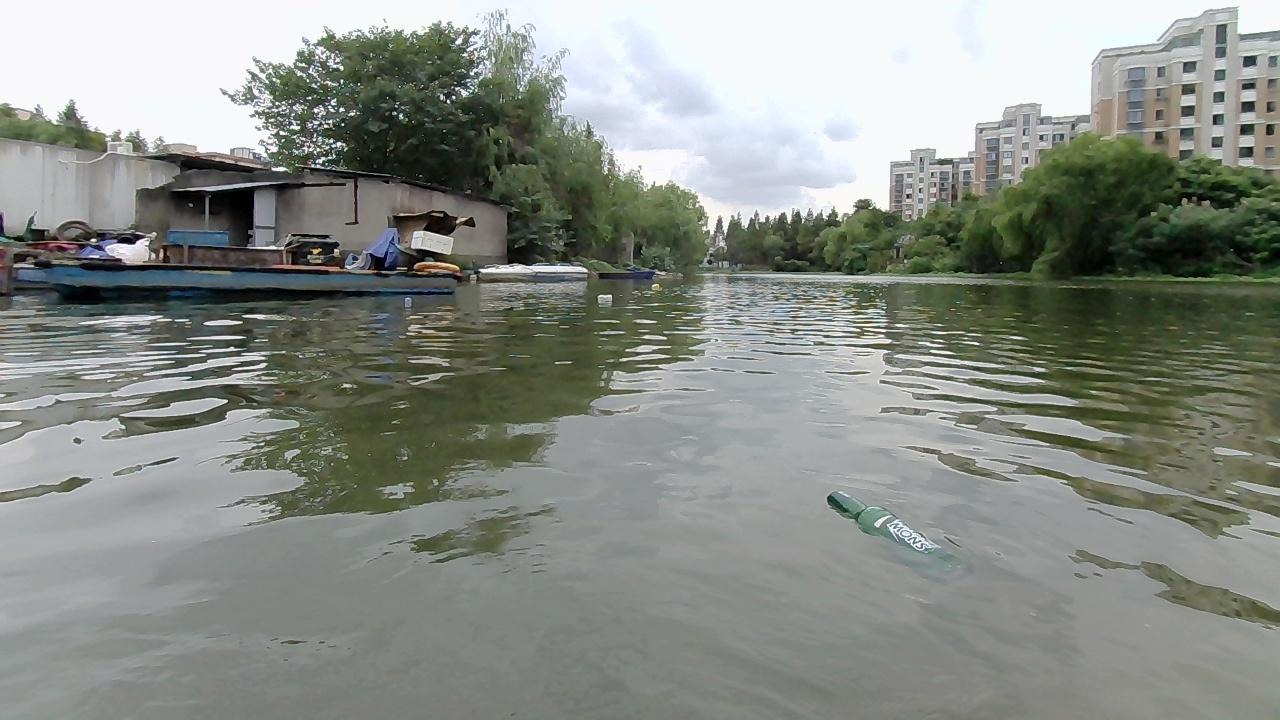bottle: (822, 479, 966, 581), (595, 292, 616, 303), (648, 281, 660, 292), (402, 295, 416, 304)
